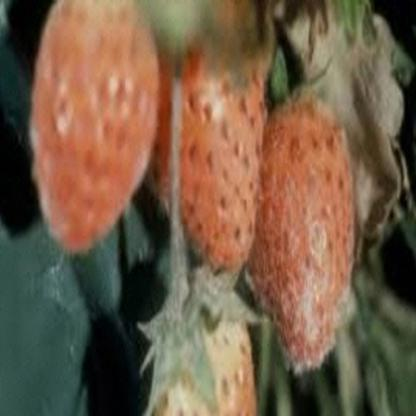Strawberry_Powdery_Mildew_Fruit: (27, 0, 162, 250), (142, 26, 272, 275), (244, 88, 356, 372)
